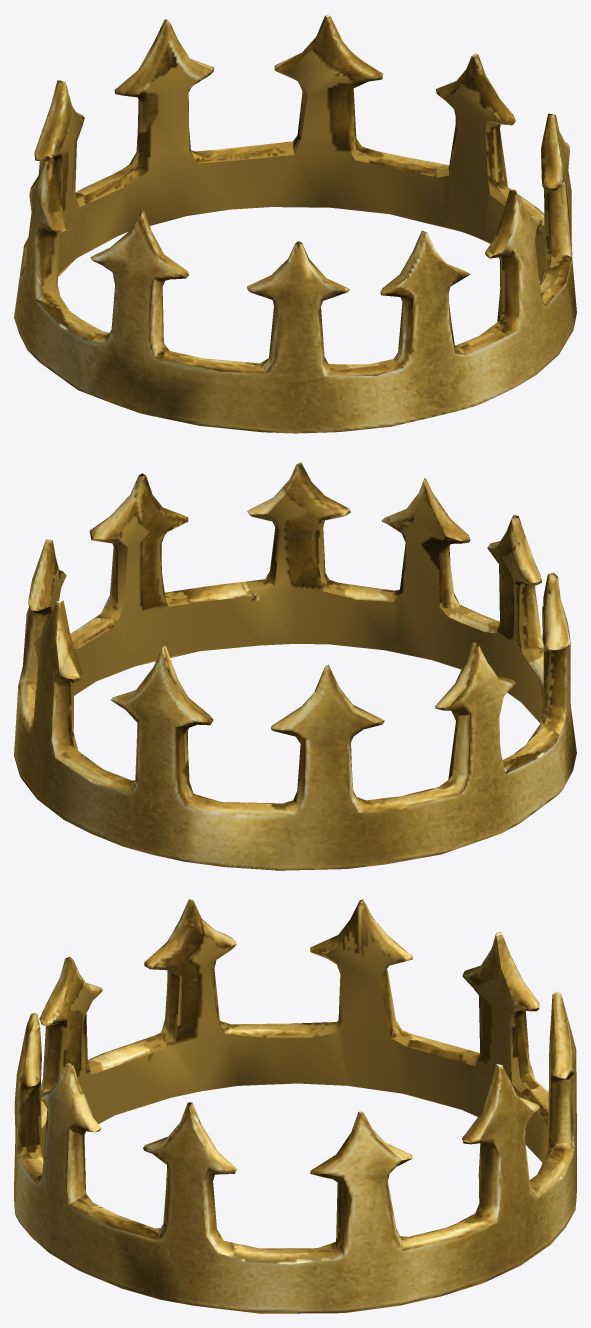
Rendered from item_6crown3.glb.
3 views of the same model, one above another, from view 1: azimuth 30°, elevation 25°; view 2: azimuth 150°, elevation 25°; view 3: azimuth 270°, elevation 25° (orthographic).
Parts seen in each view (by area): view 1: equipment_6crown3; view 2: equipment_6crown3; view 3: equipment_6crown3.
Part boxes in pixels (bbox=[...]): equipment_6crown3: bbox=[14, 14, 576, 433]; equipment_6crown3: bbox=[14, 462, 576, 870]; equipment_6crown3: bbox=[14, 899, 576, 1313].
Size of the model in its own units: 0.9997 by 0.3989 by 1.
1 material, 1 textured.
